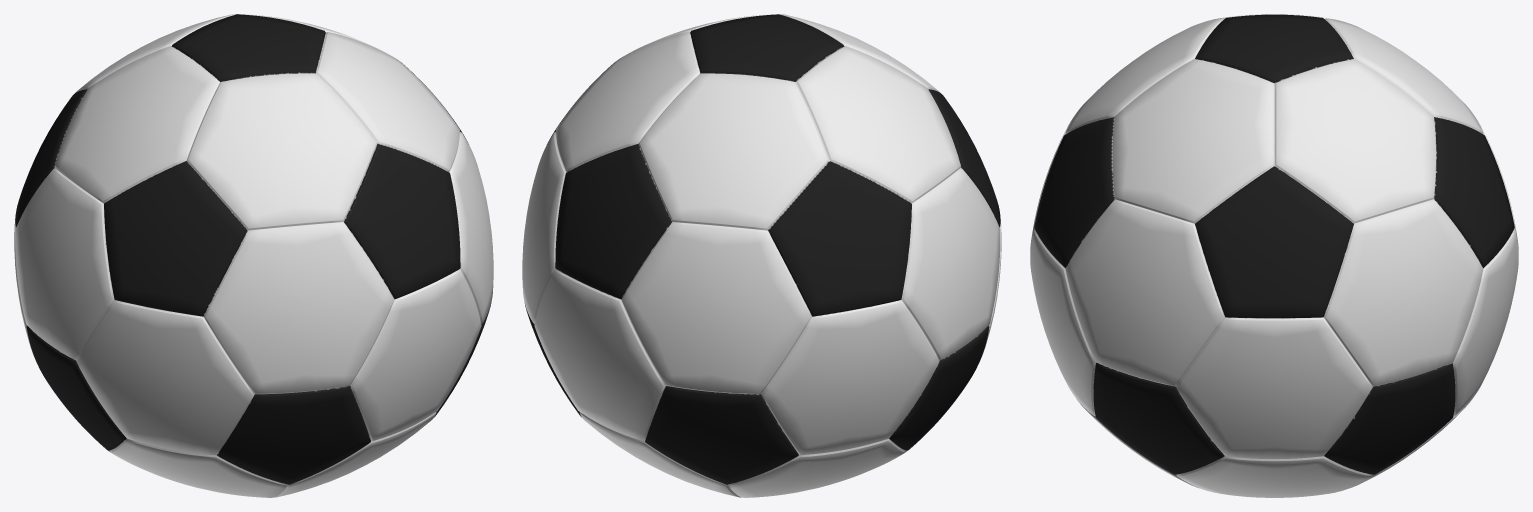
The model's file is JuniorFactory_SlicerClone_Ball_v1.fbx.
3 renders of one model, left to right at view 1: azimuth 30°, elevation 25°; view 2: azimuth 150°, elevation 25°; view 3: azimuth 270°, elevation 25°, orthographic.
Parts seen in each view (by area): view 1: Ball; view 2: Ball; view 3: Ball.
Boxes of the visible parts, left/top/right/bottom form: Ball: left=14, top=14, right=493, bottom=497; Ball: left=522, top=14, right=1001, bottom=497; Ball: left=1030, top=14, right=1518, bottom=497.
Size of the model in its own units: 1997 by 1997 by 2020.
1 material, 1 textured.
